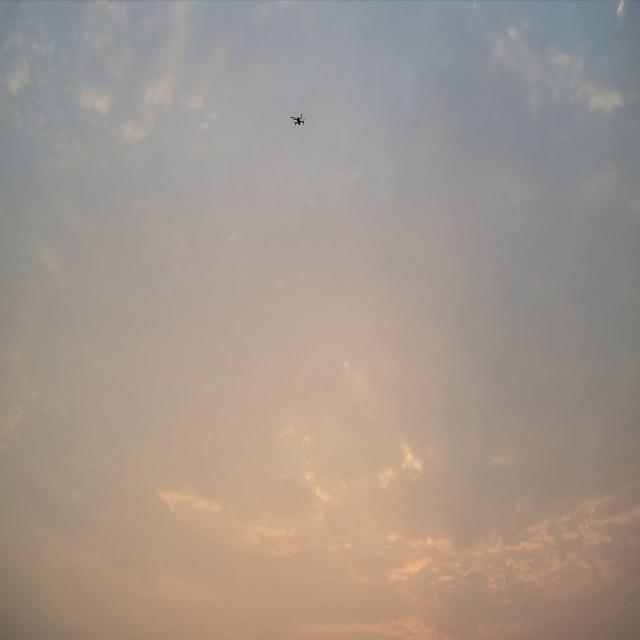UAV: (290, 113, 305, 126)
